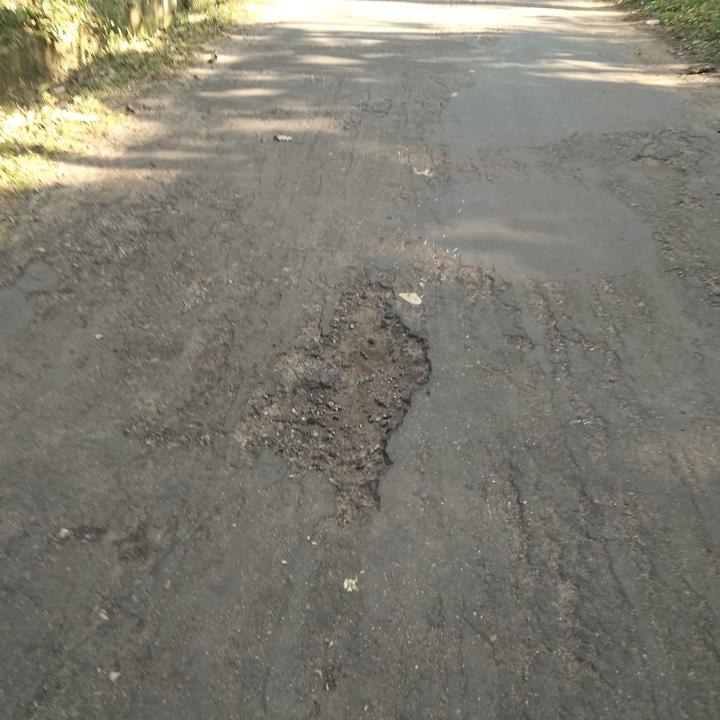pothole: (235, 265, 440, 530)
